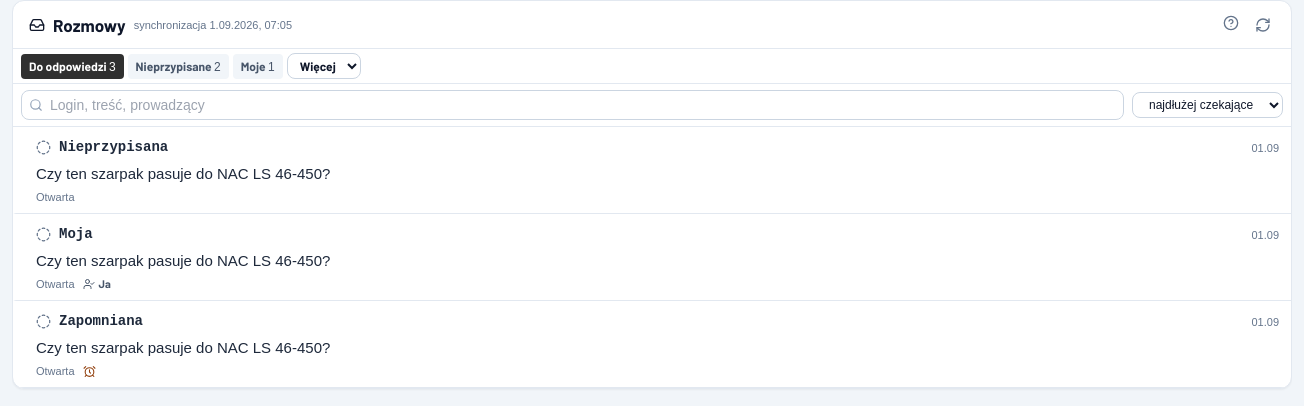
Test: Kolejka › kubełek MOJE pokazuje wyłącznie rozmowy zalogowanego agenta, przy których ruch jest nasz
The width and height of the screenshot is (1304, 406).
Click the button "Moje 1" at (258, 66), box top-left (233, 54), bottom-right (283, 78)
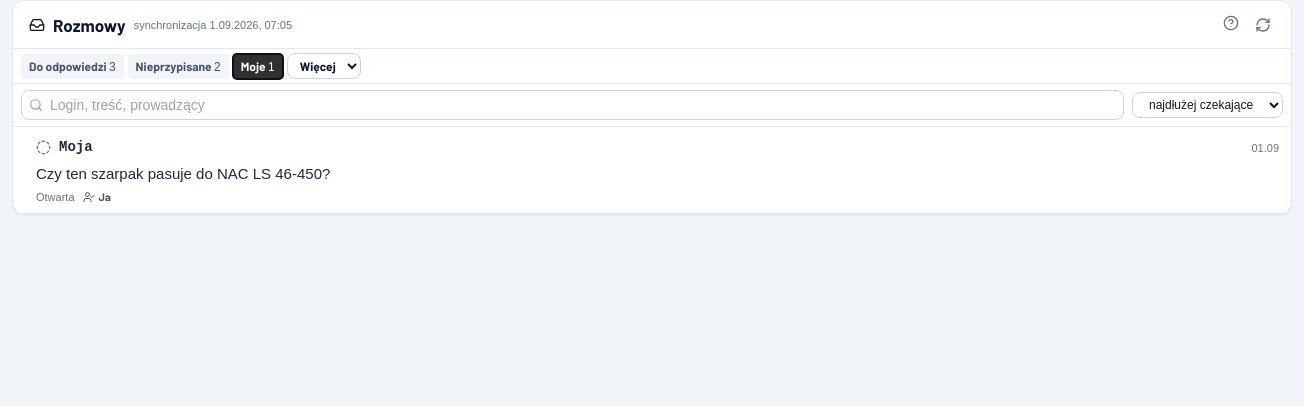
Expected: the text "Moja" is shown, top-left (59, 137), bottom-right (93, 157)
Now the button "Nieprzypisana" is gone
Select "Oczekujące · 1" in the dropdown named "Więcej kubełków" at (324, 66), box top-left (287, 53), bottom-right (361, 79)
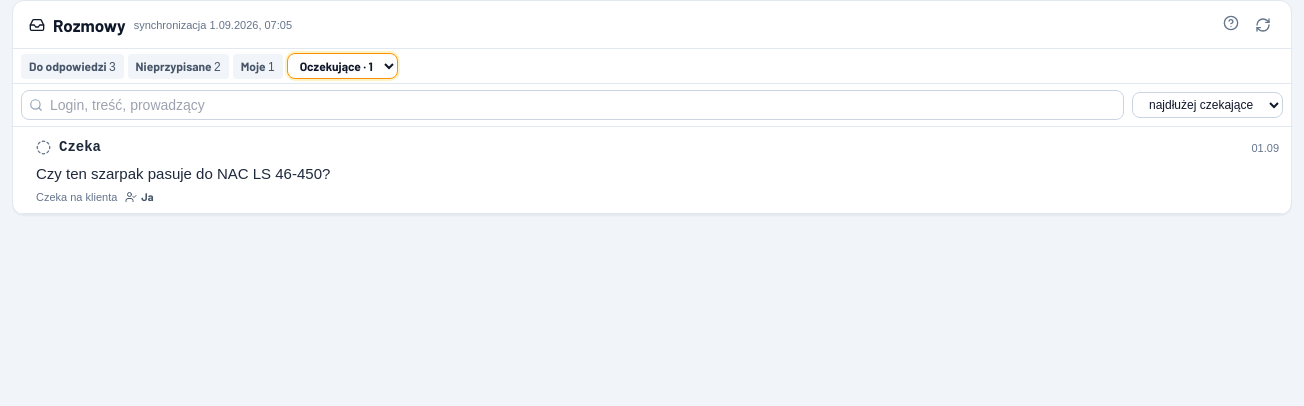
Now the text "Czeka" is shown, box top-left (59, 137), bottom-right (101, 157)
